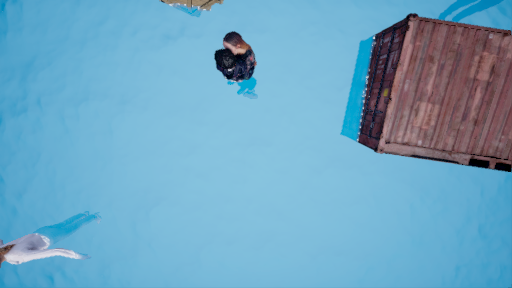person: (2, 211, 107, 263), (210, 35, 265, 101)
